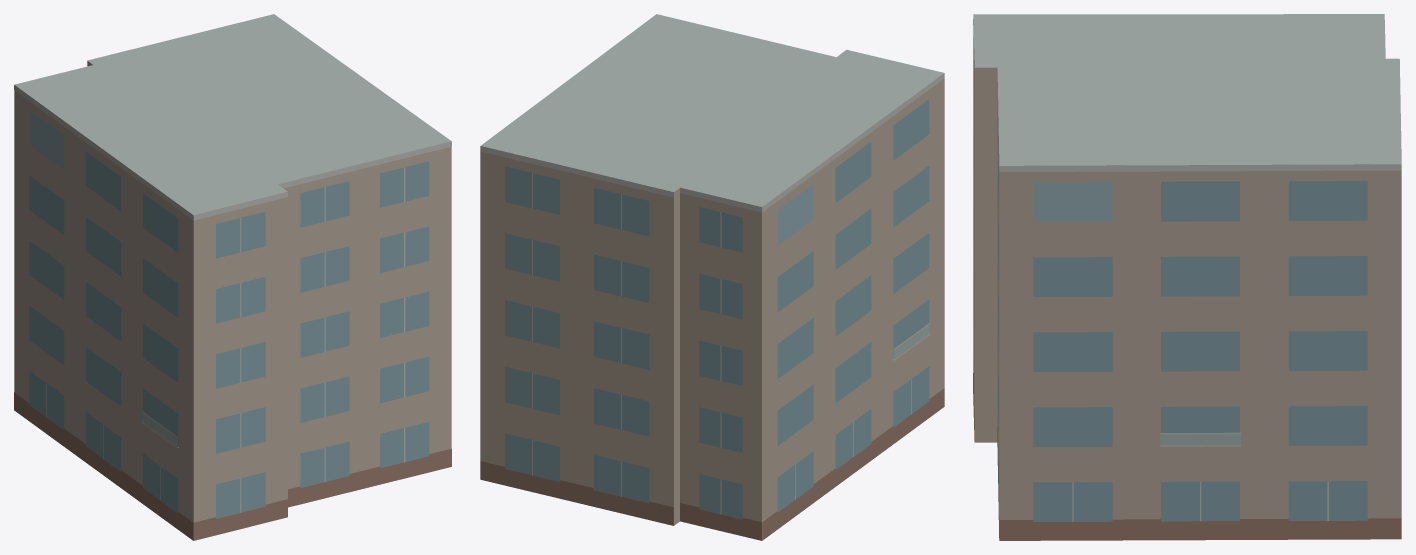
Rendered from survey-upis-32970233.glb.
3 views of the same model, side by side, from view 1: azimuth 30°, elevation 25°; view 2: azimuth 150°, elevation 25°; view 3: azimuth 270°, elevation 25° (orthographic). The views are drawn at different scales.
Parts seen in each view (by area): view 1: survey-upis-32970233.tmp; view 2: survey-upis-32970233.tmp; view 3: survey-upis-32970233.tmp.
Boxes of the visible parts, bbox=[...] form: survey-upis-32970233.tmp: bbox=[14, 14, 451, 540]; survey-upis-32970233.tmp: bbox=[480, 14, 944, 540]; survey-upis-32970233.tmp: bbox=[973, 14, 1401, 540].
Size of the model in its own units: 12.75 by 14.66 by 15.2.
